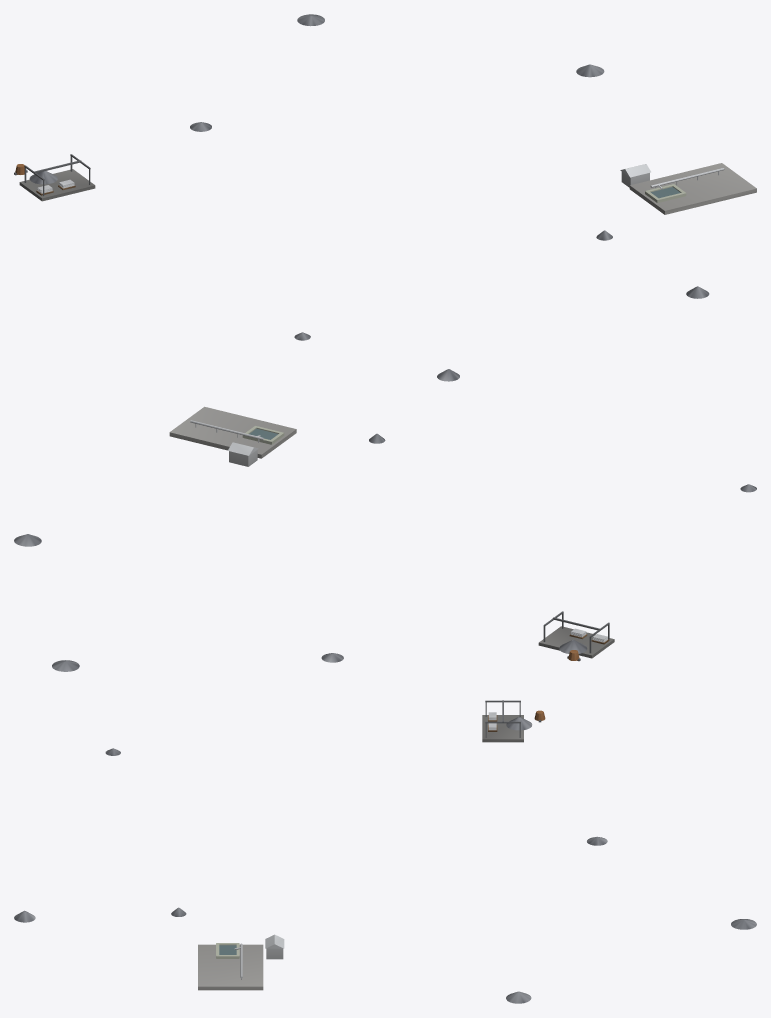
File: Theme_P1.fbx
3 renders of one model, top to bottom at view 1: azimuth 30°, elevation 25°; view 2: azimuth 150°, elevation 25°; view 3: azimuth 270°, elevation 25°, orthographic. The views are drawn at different scales.
Parts seen in each view (by area): view 1: Theme.LeachPonds, Theme.CathodeYard; view 2: Theme.LeachPonds, Theme.CathodeYard, Theme.PumpHouse; view 3: Theme.LeachPonds, Theme.CathodeYard.
Part boxes in pixels (x1,y1,x2,y2): Theme.LeachPonds: (629, 163, 756, 214); Theme.CathodeYard: (19, 154, 95, 201); Theme.LeachPonds: (169, 406, 296, 458); Theme.CathodeYard: (538, 611, 614, 658); Theme.PumpHouse: (228, 442, 258, 466); Theme.LeachPonds: (198, 943, 263, 990); Theme.CathodeYard: (482, 700, 523, 742).
Size of the model in its own units: 23910 by 1779 by 28400.
